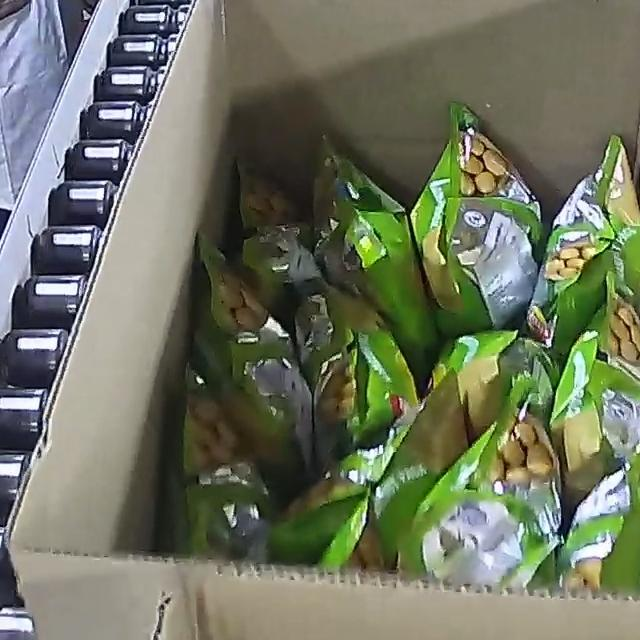yogurt: (172, 99, 640, 593)
